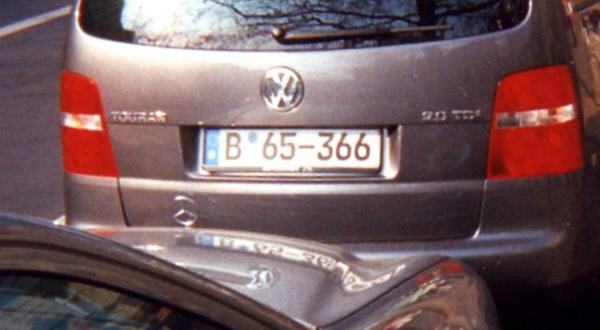license_plate: (200, 126, 384, 172)
